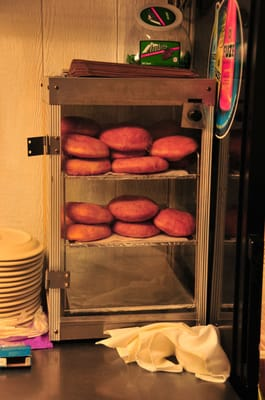salad: (153, 208, 195, 238), (110, 198, 159, 223), (150, 135, 197, 161), (68, 203, 113, 225), (66, 224, 111, 242)
